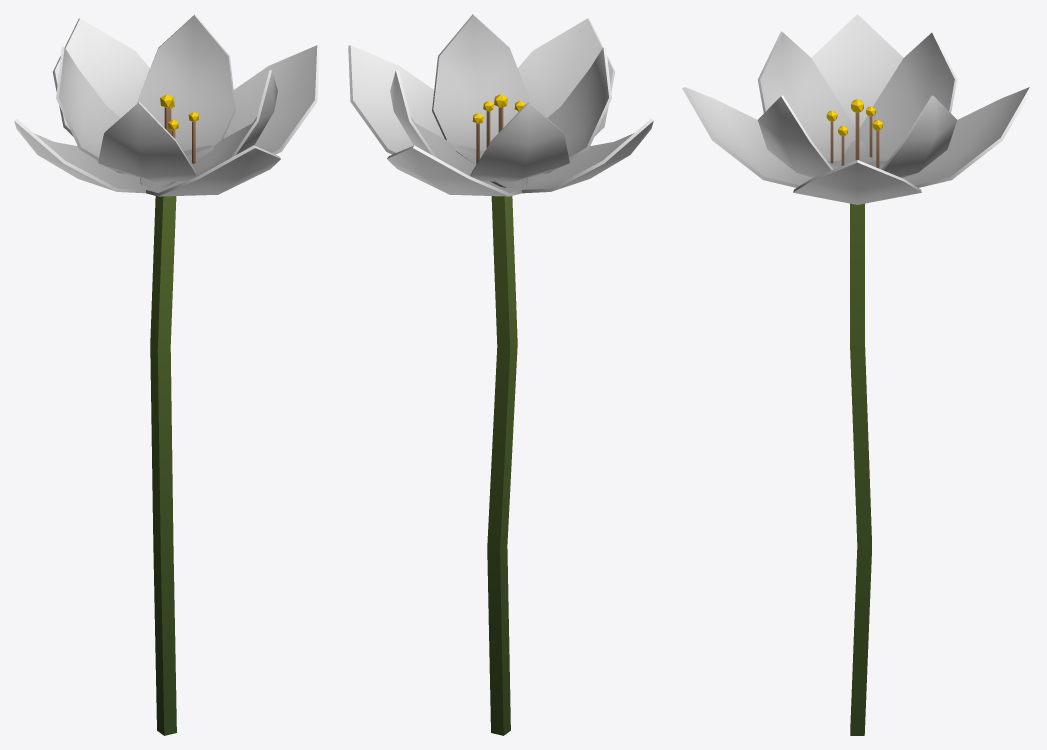
The model's file is PondPlant_04.fbx.
3 views of the same model, side by side, from view 1: azimuth 30°, elevation 25°; view 2: azimuth 150°, elevation 25°; view 3: azimuth 270°, elevation 25° (orthographic).
Visible parts, largest first — view 1: PondPlant_04_LOD0; view 2: PondPlant_04_LOD0; view 3: PondPlant_04_LOD0.
Part boxes in pixels (x1,y1,x2,y2): PondPlant_04_LOD0: (14,14,319,735); PondPlant_04_LOD0: (348,14,653,735); PondPlant_04_LOD0: (682,14,1032,735).
Size of what is drawn, in the model's own units: 0.2557 by 0.5383 by 0.2557.
